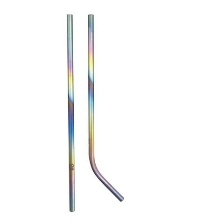drinking_straw: (83, 11, 128, 205), (61, 10, 82, 217)
